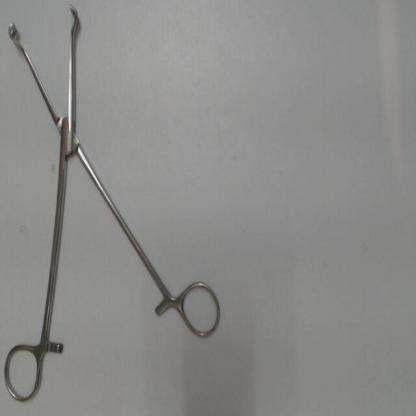8 Babcock Tissue Forceps: (0, 2, 226, 409)
